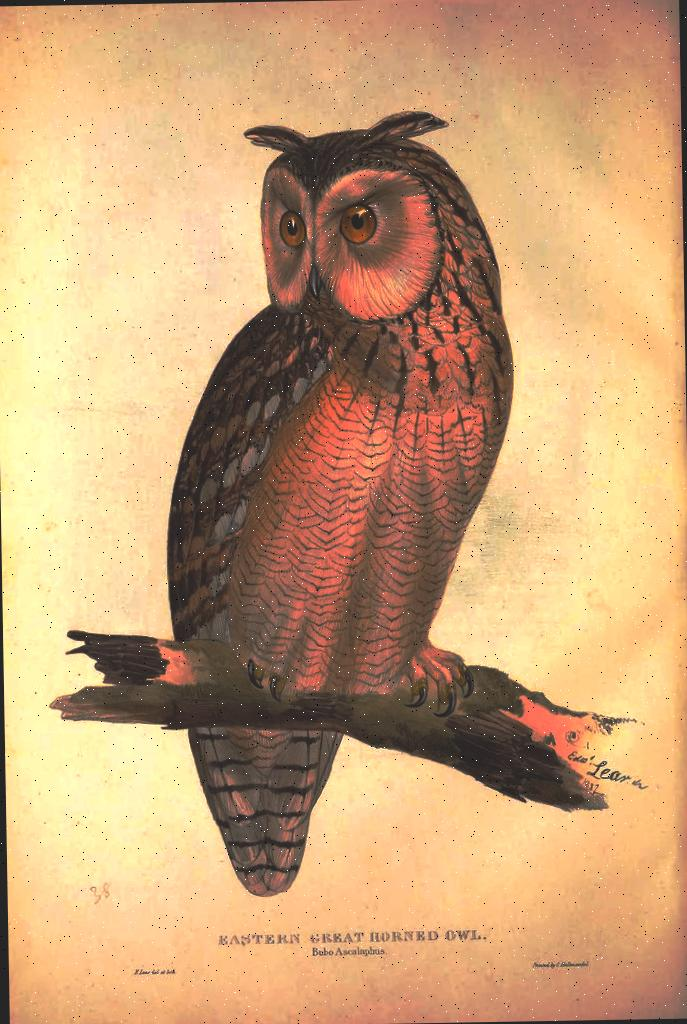Owl: (160, 108, 526, 897)
